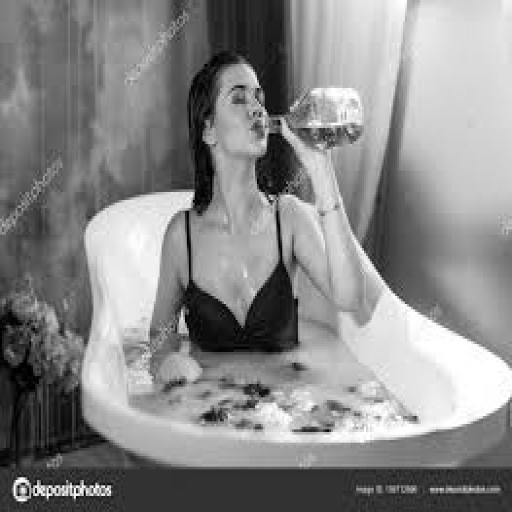drinking: (255, 83, 364, 149)
